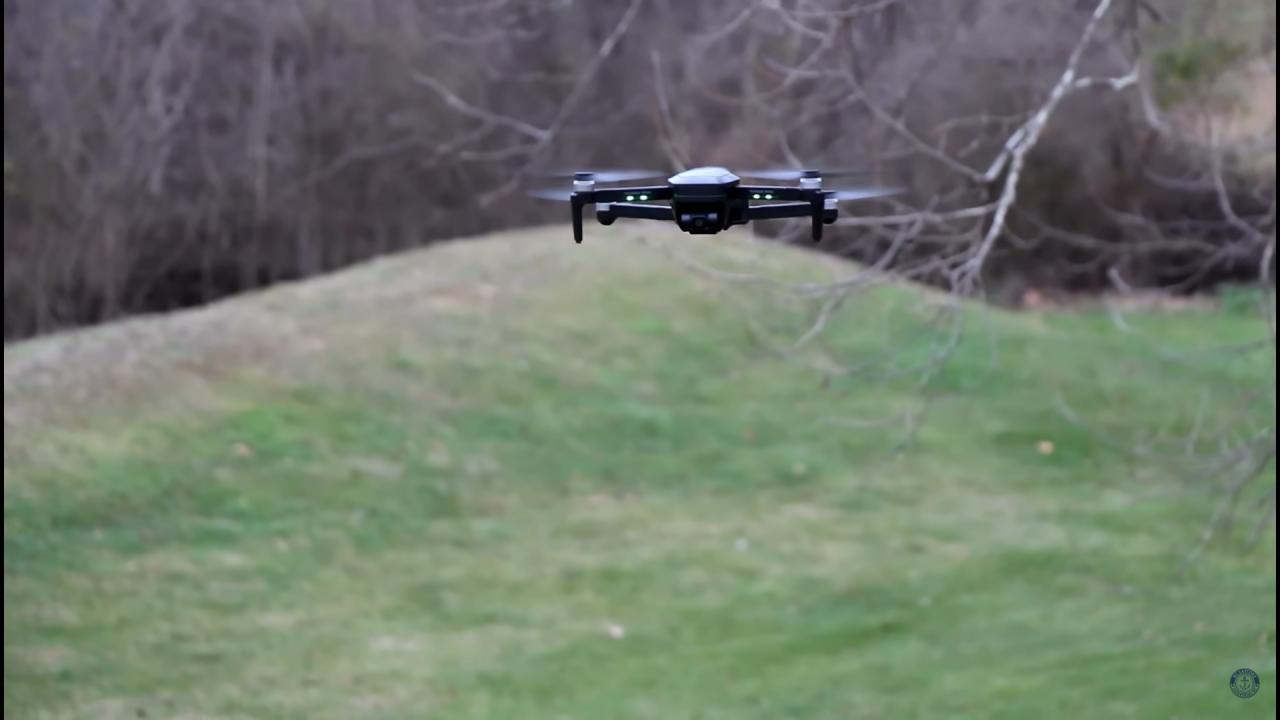Drone: (507, 142, 921, 258)
